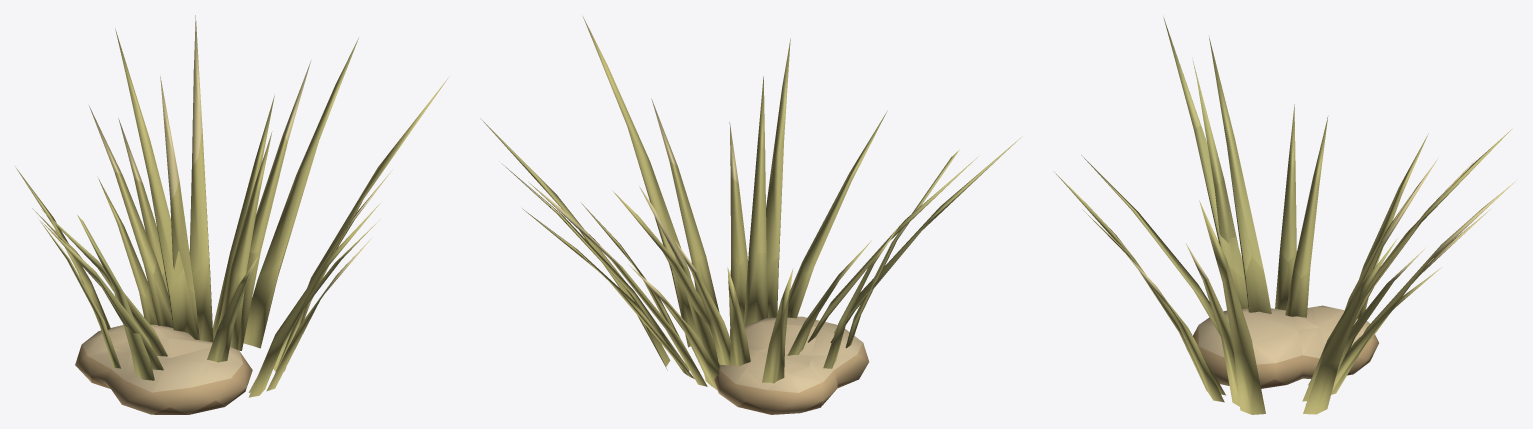
The model's file is shore_marram_b_lod1.glb.
3 renders of one model, left to right at view 1: azimuth 30°, elevation 25°; view 2: azimuth 150°, elevation 25°; view 3: azimuth 270°, elevation 25°, orthographic. The views are drawn at different scales.
Parts seen in each view (by area): view 1: shore_marram_b.001; view 2: shore_marram_b.001; view 3: shore_marram_b.001.
Boxes of the visible parts, x1,y1,x2,y2 form: shore_marram_b.001: (15, 15, 449, 414); shore_marram_b.001: (480, 17, 1022, 414); shore_marram_b.001: (1053, 17, 1517, 414).
Size of the model in its own units: 6.67 by 4.28 by 6.03.
